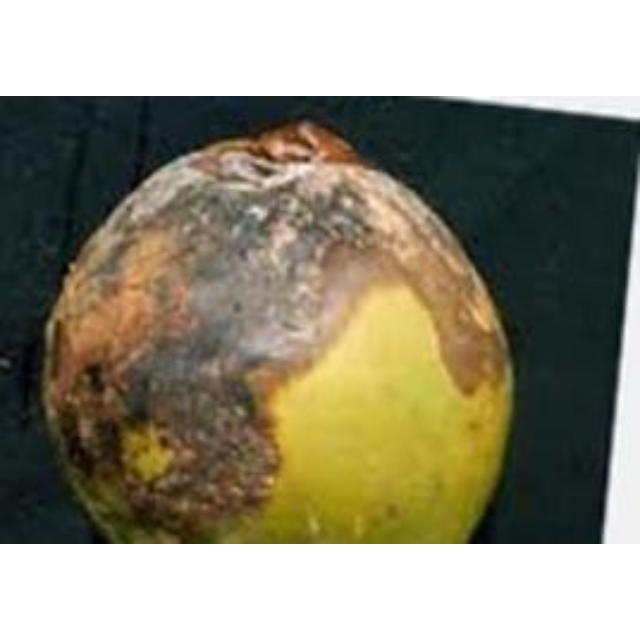damaged: (45, 122, 511, 543)
